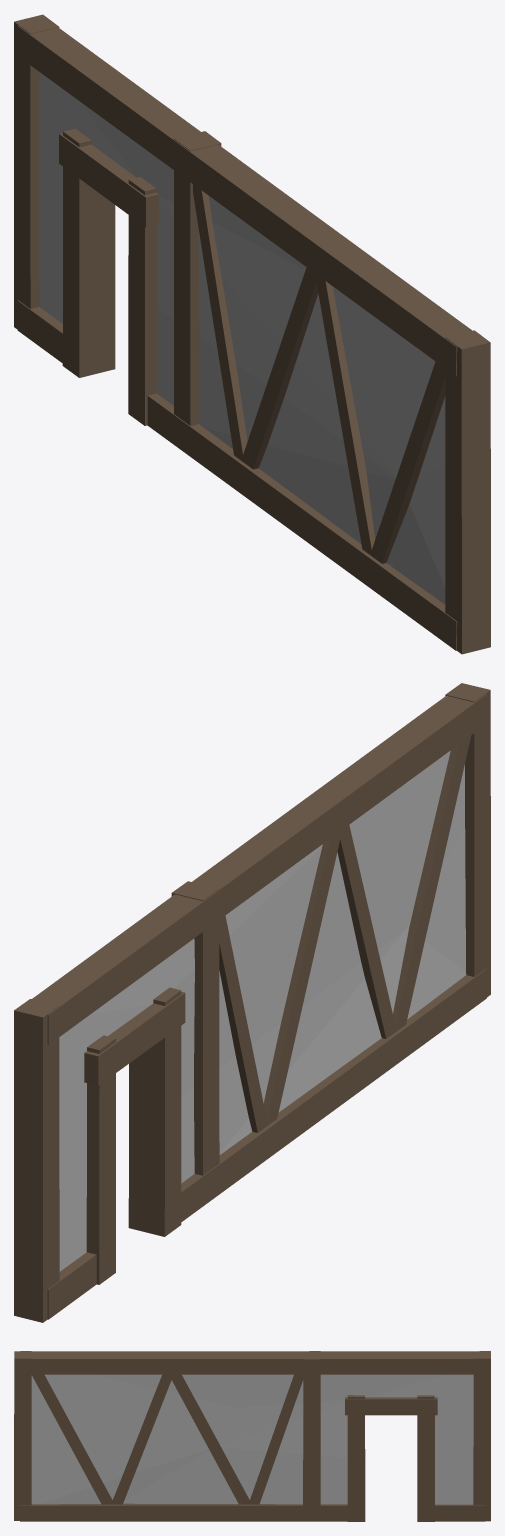
File: EA03_Village_Hut_Wall_Front_04f.glb
The picture shows the model from 3 angles, top to bottom: view 1: azimuth 30°, elevation 25°; view 2: azimuth 150°, elevation 25°; view 3: azimuth 270°, elevation 25°; orthographic projection. The views are drawn at different scales.
Parts seen in each view (by area): view 1: EA03_Village_Hut_Wall_Front_04f; view 2: EA03_Village_Hut_Wall_Front_04f; view 3: EA03_Village_Hut_Wall_Front_04f.
Boxes of the visible parts, bbox=[...] form: EA03_Village_Hut_Wall_Front_04f: bbox=[14, 14, 490, 654]; EA03_Village_Hut_Wall_Front_04f: bbox=[14, 683, 490, 1322]; EA03_Village_Hut_Wall_Front_04f: bbox=[14, 1351, 490, 1521].
Size of the model in its own units: 0.3984 by 2.98 by 7.93.
Materials: 1 (1 with a texture image).
